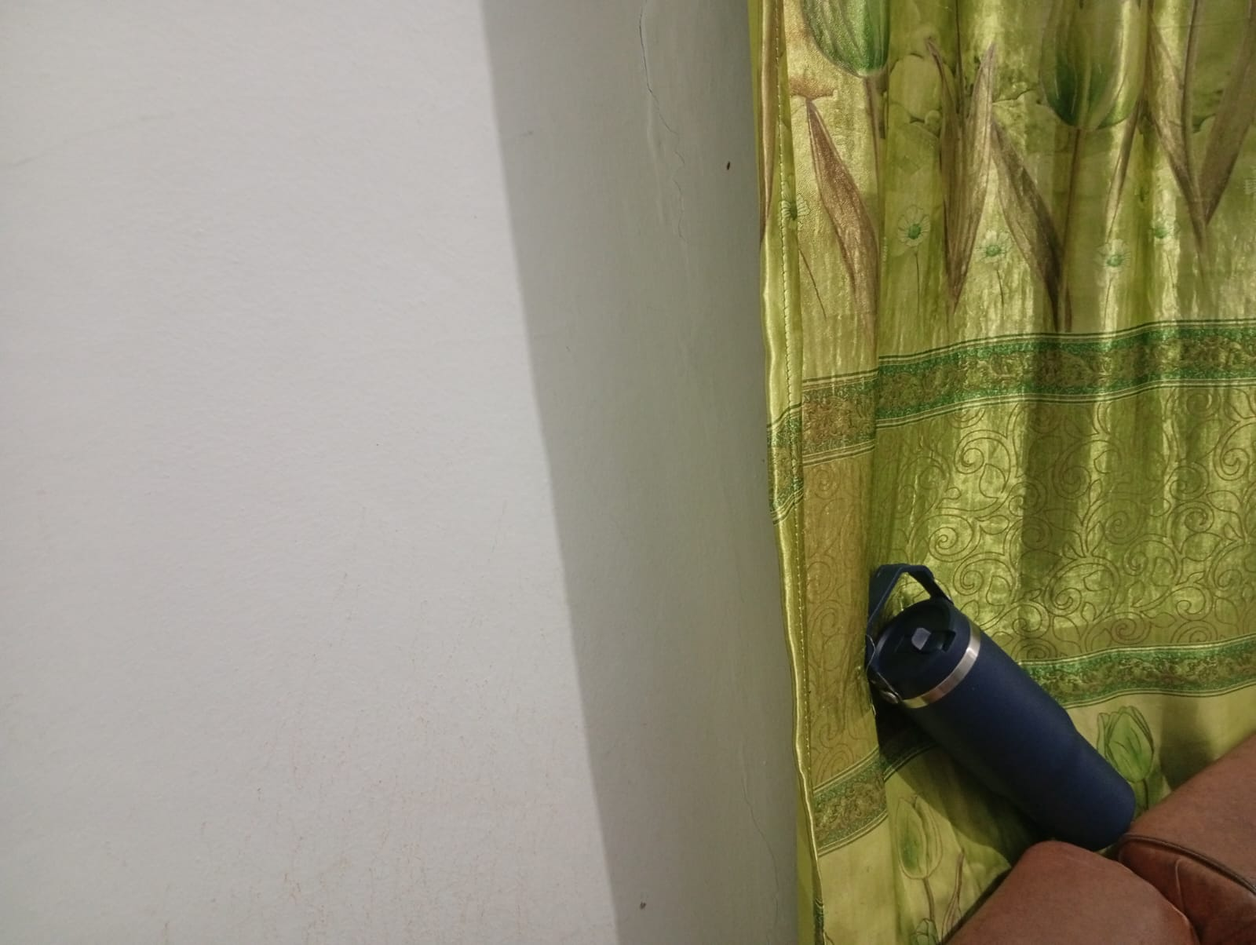Tupperware: (895, 528, 1256, 700)
